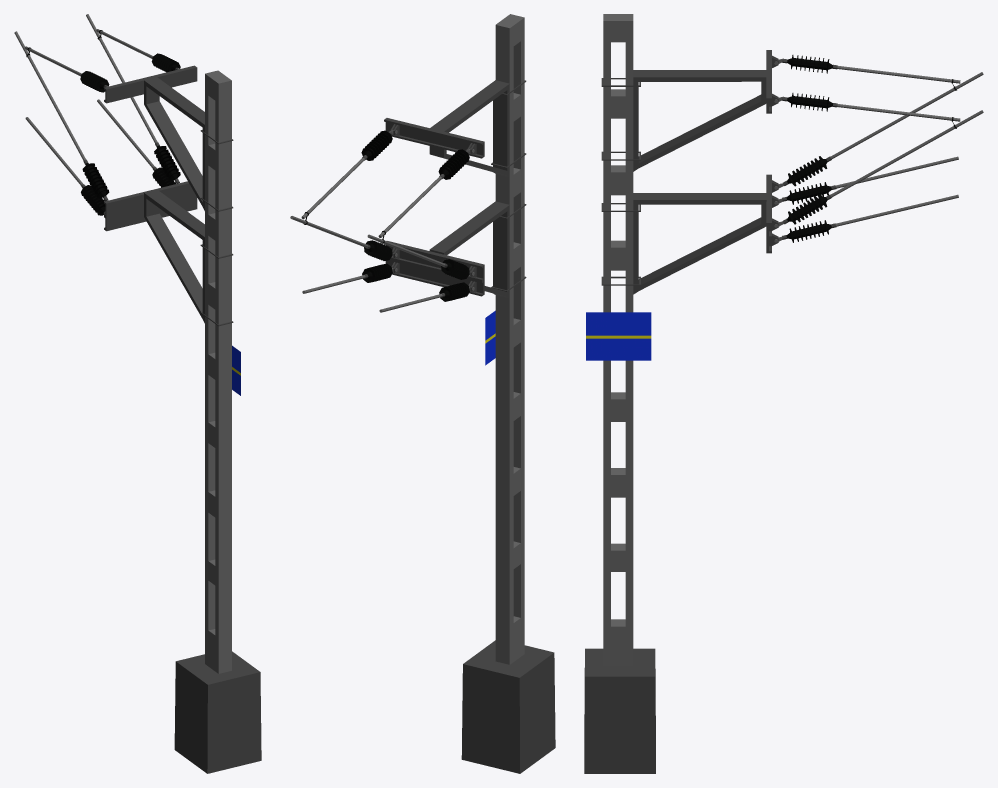
Rendered from SquareElectricPole-transformed.glb.
3 renders of one model, left to right at view 1: azimuth 30°, elevation 25°; view 2: azimuth 150°, elevation 25°; view 3: azimuth 270°, elevation 25°, orthographic. The views are drawn at different scales.
Visible parts, largest first — view 1: electric pole 1.002, electric pole 1.001, electric pole 1.003, electric pole 1.006, electric pole 1.005, electric pole 1; view 2: electric pole 1.002, electric pole 1.001, electric pole 1.003, electric pole 1.006, electric pole 1.005, electric pole 1, Plane, electric pole 1.007; view 3: electric pole 1.002, electric pole 1.001, electric pole 1.003, electric pole 1, Plane, electric pole 1.005, electric pole 1.006.
Boxes of the visible parts, box(x1,y1,x2,y2) form: electric pole 1.002: box(205, 70, 231, 673); electric pole 1.001: box(174, 651, 261, 773); electric pole 1.003: box(144, 77, 204, 323); electric pole 1.006: box(104, 65, 197, 231); electric pole 1.005: box(80, 53, 180, 215); electric pole 1: box(14, 14, 179, 200); electric pole 1.002: box(495, 14, 524, 664); electric pole 1.001: box(461, 640, 555, 773); electric pole 1.003: box(429, 80, 509, 298); electric pole 1.006: box(384, 118, 484, 296); electric pole 1.005: box(361, 130, 469, 301); electric pole 1: box(290, 130, 470, 312); Plane: box(485, 310, 495, 365); electric pole 1.007: box(390, 124, 476, 292); electric pole 1.002: box(603, 14, 633, 665); electric pole 1.001: box(584, 648, 655, 773); electric pole 1.003: box(633, 70, 766, 294); electric pole 1: box(778, 58, 983, 241); Plane: box(586, 312, 651, 360); electric pole 1.005: box(786, 55, 832, 242); electric pole 1.006: box(766, 50, 771, 253).
Bounding box in the file's own units: 1.37 × 9.8 × 4.78.
4 materials, 4 textured.
